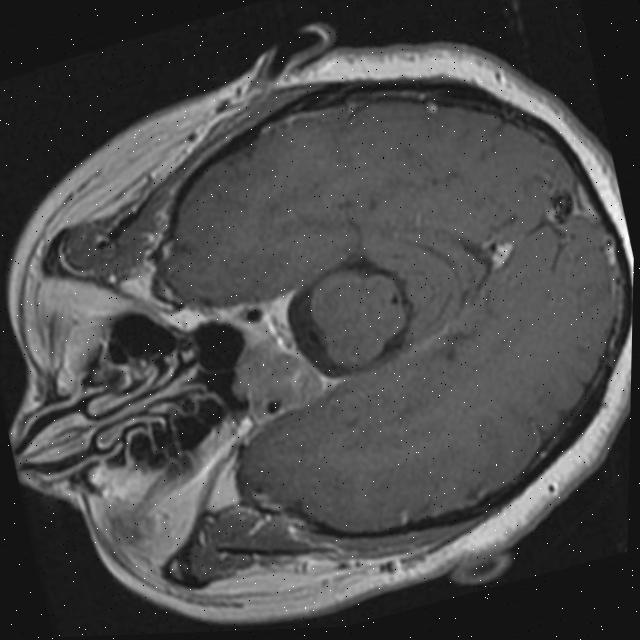Pituitary: (217, 310, 310, 407)
